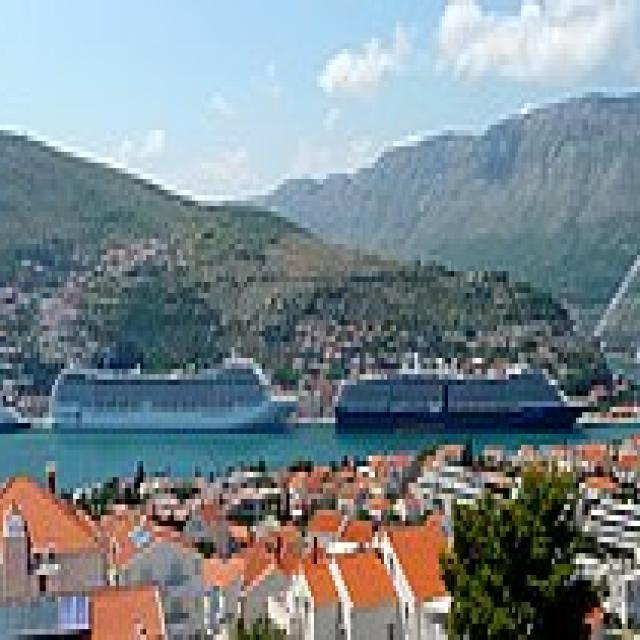Cruise: (332, 342, 607, 428), (49, 347, 305, 434)
